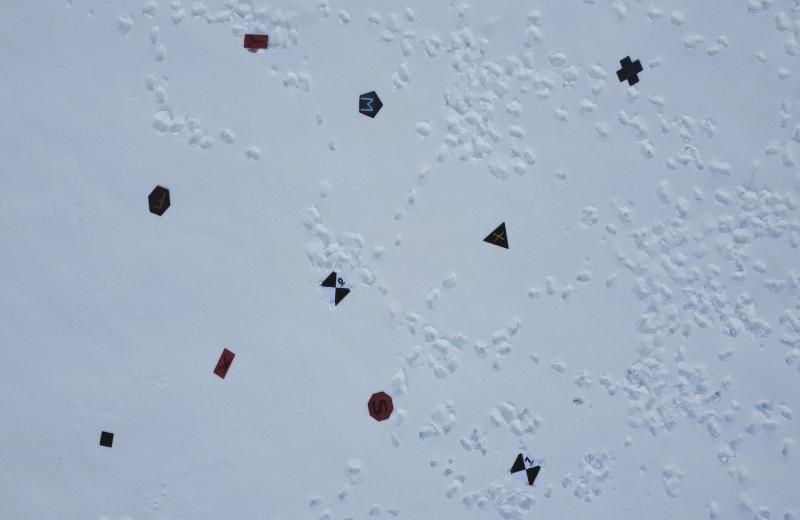Cross: (614, 53, 644, 89)
Hexagon: (144, 182, 174, 220)
Octagon: (366, 390, 396, 426)
Pentagon: (355, 87, 384, 121)
Rectangle: (211, 345, 237, 384), (240, 30, 272, 53)
Square: (97, 426, 117, 452)
Triangle: (478, 218, 512, 255)
